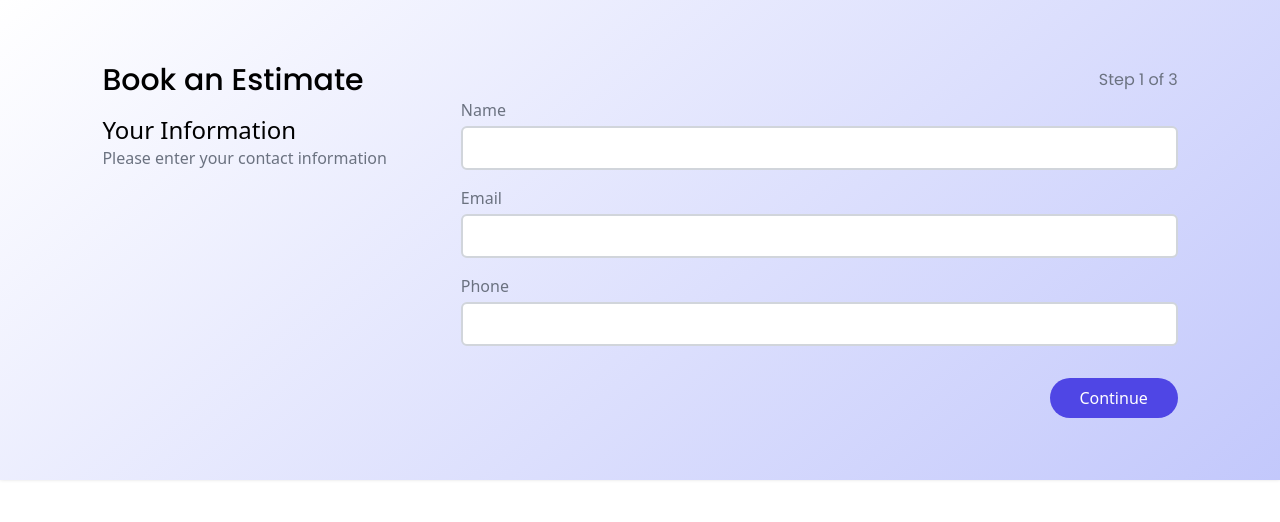
Test case: Page 1 › should render error if the name field has three words
In the field labelled "Name": (819, 148) [461, 126, 1178, 170], type "John Doe Smith"
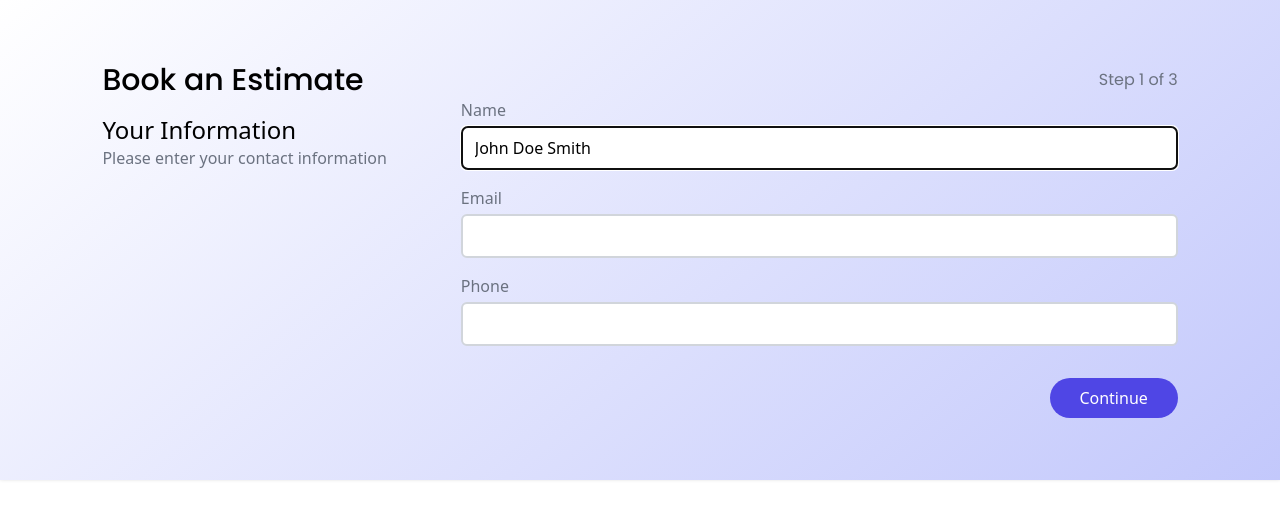
Click the button "Continue": (1114, 398) [1050, 378, 1178, 418]
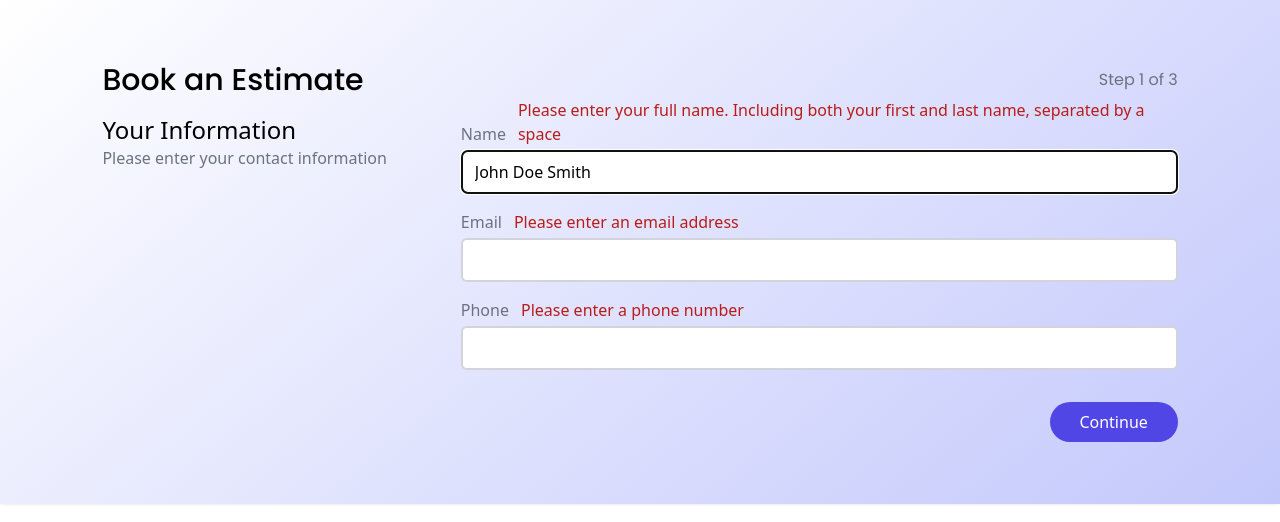
expect the text "Please enter your full name" is shown: met, box [518, 99, 1144, 145]
